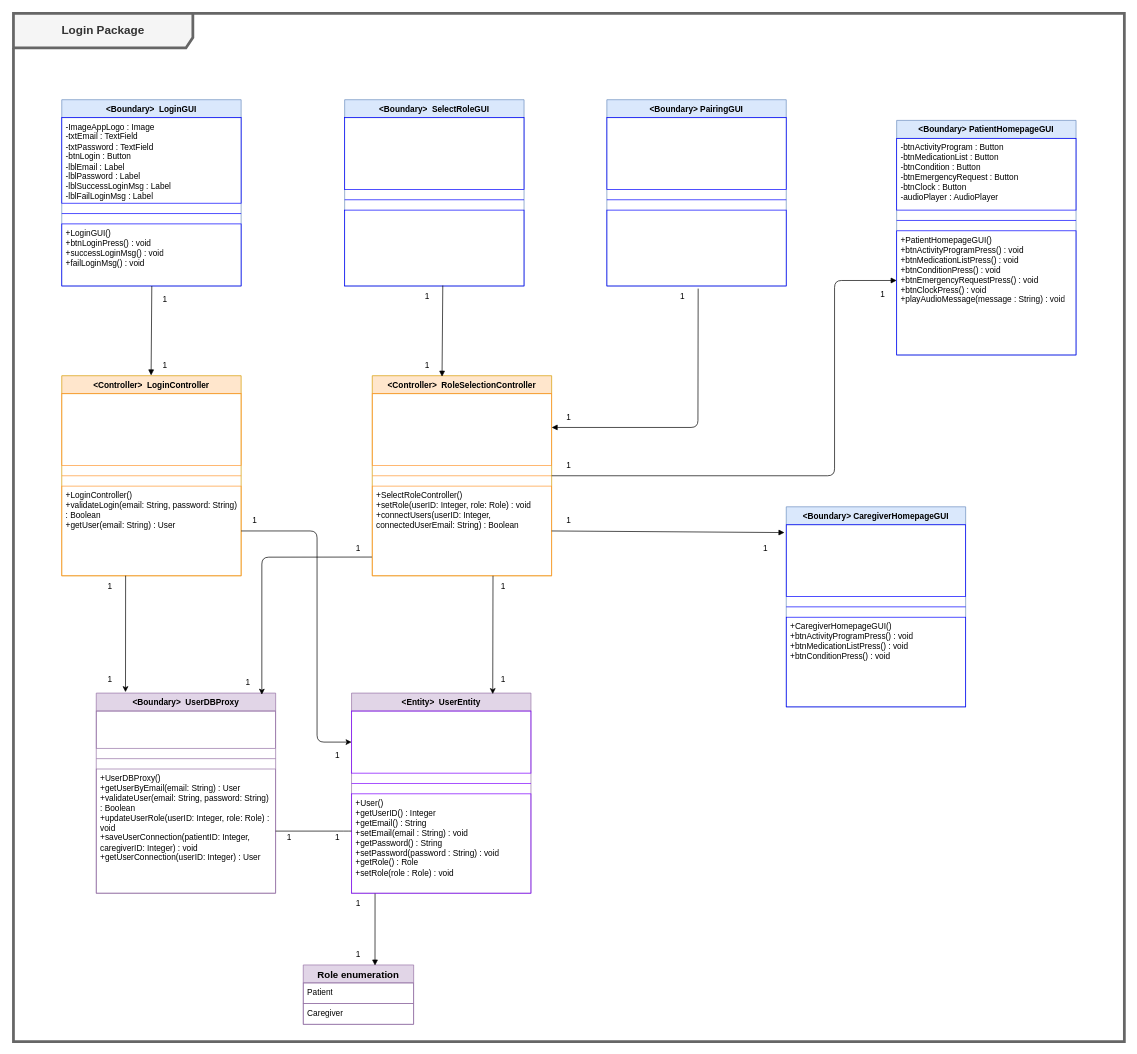
Image size: 1137x1054. Some labels were removed from this diagram. The centre of each missing label's shape, as x and y in pixels:
+PairingGUI() +btnConnectPress() : void: [696,247]
+SelectRoleGUI() +btnPatientPress() : void +btnCaregiverPress() : void: [434,247]
-btnActivityProgram : Button -btnMedicationList : Button -btnCondition : Button: [876,560]
-btnPatient : Button -btnCaregiver : Button -lblSelectRole : Label: [434,153]
-lblEnterEmail : Label -txtEmail : TextField -btnConnect : Button: [696,153]
-userID : Integer -email : String -password : String -role : Role: [441,741]
